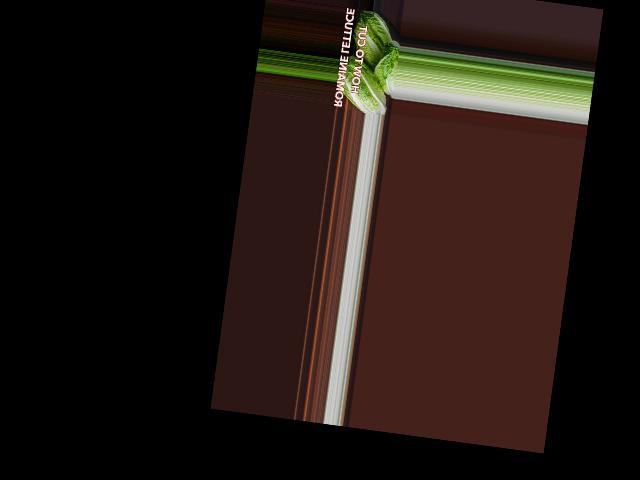lettuce: (343, 6, 399, 76)
